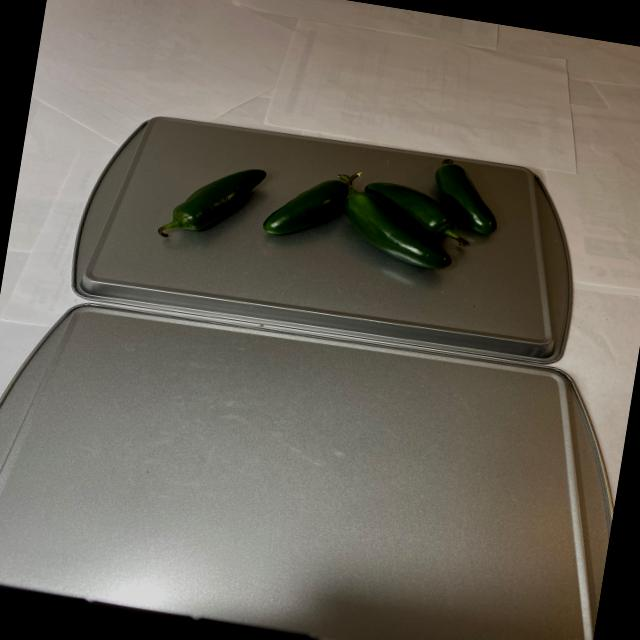chilli: (152, 112, 512, 304)
